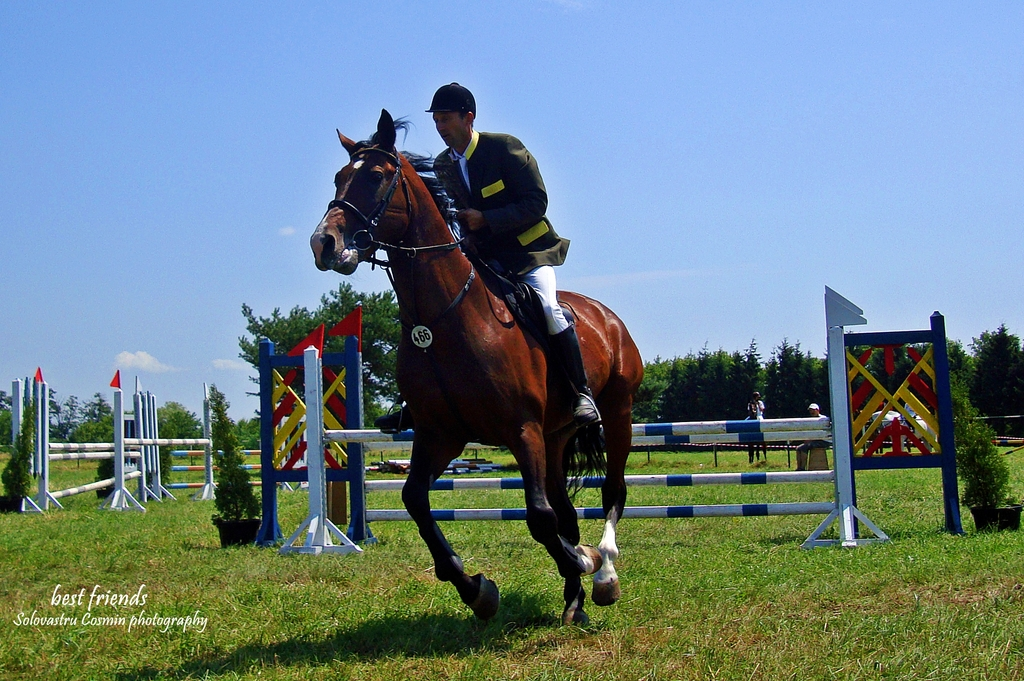Person: (424, 81, 597, 426), (794, 402, 830, 470), (743, 392, 767, 421)
